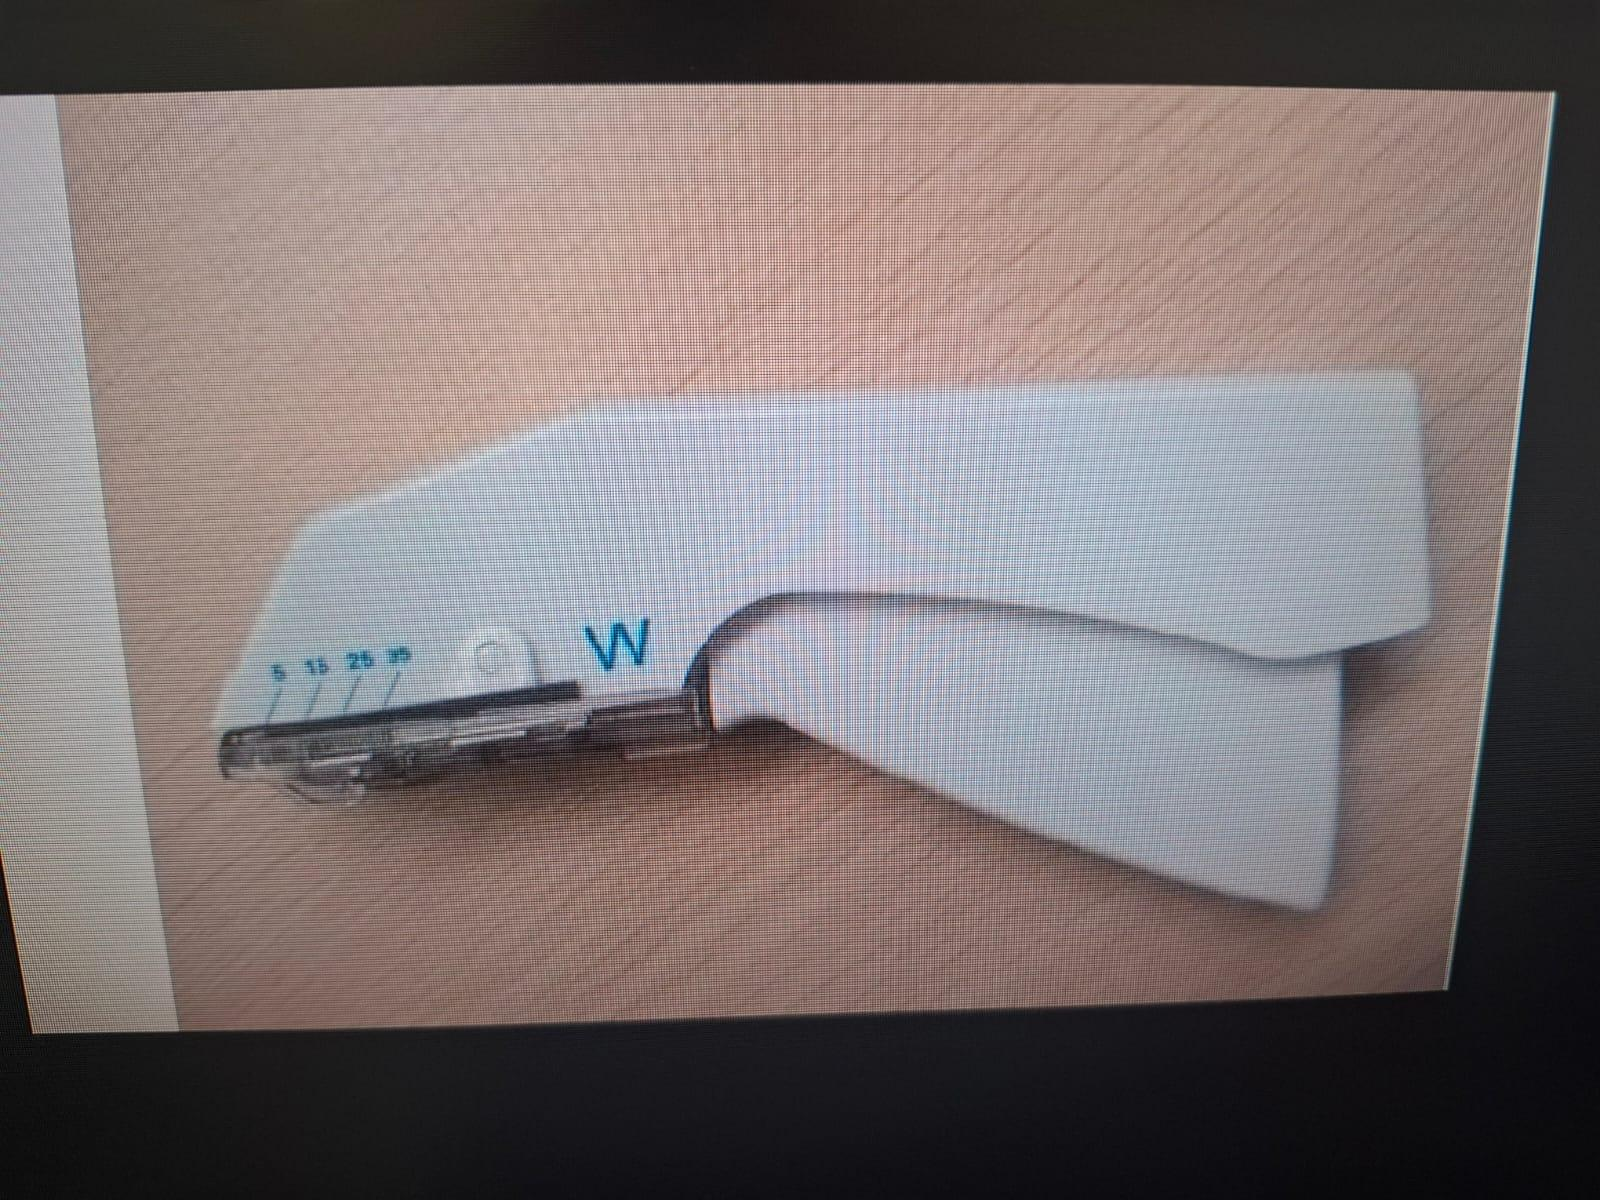Skin Stapler: (212, 378, 1444, 921)
